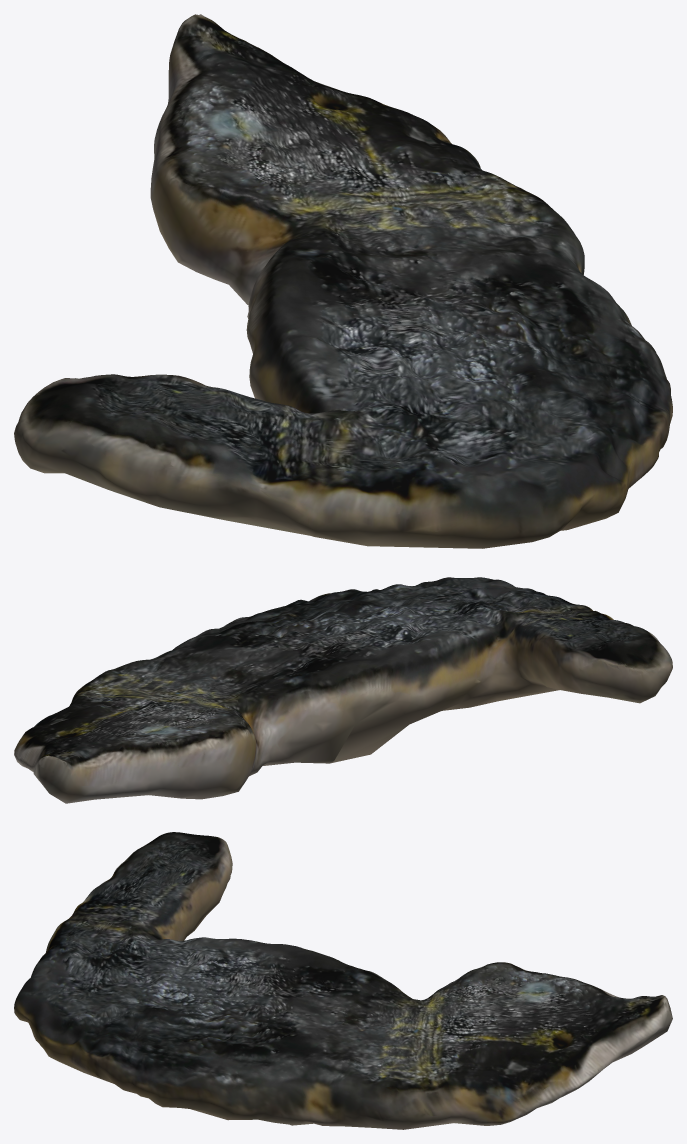
The picture shows the model from 3 angles, top to bottom: view 1: azimuth 30°, elevation 25°; view 2: azimuth 150°, elevation 25°; view 3: azimuth 270°, elevation 25°; orthographic projection. The views are drawn at different scales.
Bounding box in the file's own units: 0.5682 × 0.1589 × 0.7285.
Materials: 1 (1 with a texture image).
